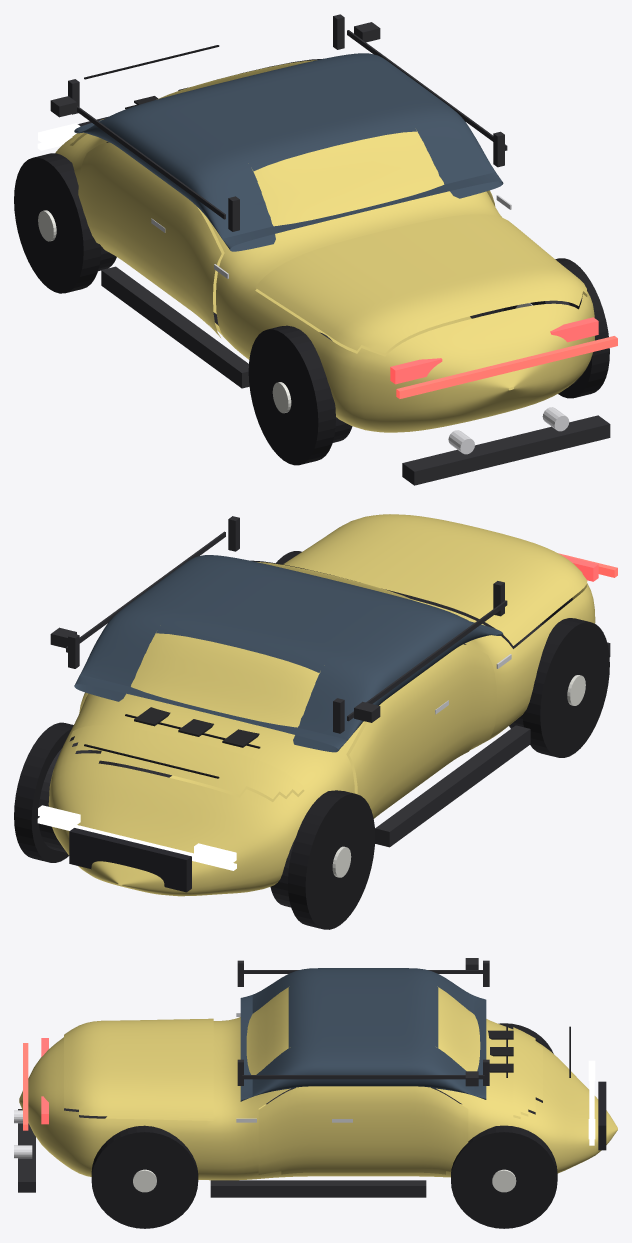
File: car_gen_retro.glb
3 views of the same model, one above another, from view 1: azimuth 30°, elevation 25°; view 2: azimuth 150°, elevation 25°; view 3: azimuth 270°, elevation 25° (orthographic). The views are drawn at different scales.
Parts seen in each view (by area): view 1: Body, Window, Boot, Door.001, Arch.003, Arch.001, Diffuser, Skirt, Rear_Light_Bar, Arch, Trim_Line.004, Rear_Light (+2 smaller); view 2: Body, Window, Boot, Door.001, Arch.001, Arch.003, Bonnet, Skirt, Grille, Arch.002, Front_Light_Bar, Trim_Line.004 (+4 smaller); view 3: Body, Window, Door, Boot, Arch, Arch.002, Skirt.001, Bonnet, Trim_Line.005, Diffuser, Grille, Rear_Light_Bar (+3 smaller).
Part boxes in pixels (x1,y1,x2,y2): Body: [55, 58, 594, 432]; Window: [74, 53, 503, 251]; Boot: [255, 214, 587, 353]; Door.001: [78, 142, 221, 337]; Arch.003: [248, 325, 335, 465]; Arch.001: [14, 153, 101, 293]; Diffuser: [402, 415, 610, 485]; Skirt: [101, 266, 249, 388]; Rear_Light_Bar: [396, 336, 617, 398]; Arch: [555, 258, 609, 398]; Trim_Line.004: [77, 105, 225, 219]; Rear_Light: [390, 358, 442, 384]; Body: [48, 560, 595, 896]; Window: [74, 555, 503, 752]; Boot: [283, 514, 587, 645]; Door.001: [349, 644, 496, 818]; Arch.001: [288, 790, 375, 929]; Arch.003: [522, 618, 609, 757]; Bonnet: [70, 725, 304, 798]; Skirt: [375, 725, 530, 847]; Grille: [69, 828, 191, 892]; Arch.002: [14, 722, 74, 862]; Front_Light_Bar: [37, 816, 236, 870]; Trim_Line.004: [347, 600, 507, 721]; Body: [19, 986, 617, 1180]; Window: [240, 968, 486, 1101]; Door: [258, 1086, 468, 1174]; Boot: [64, 1018, 213, 1118]; Arch: [91, 1125, 198, 1228]; Arch.002: [451, 1125, 557, 1228]; Skirt.001: [210, 1180, 426, 1197]; Bonnet: [513, 1027, 542, 1116]; Trim_Line.005: [242, 1075, 484, 1079]; Diffuser: [18, 1109, 35, 1192]; Grille: [598, 1081, 606, 1150]; Rear_Light_Bar: [23, 1043, 28, 1130].
Bounding box in the file's own units: 2.18 × 1.43 × 4.64.
17 materials, 1 textured.
